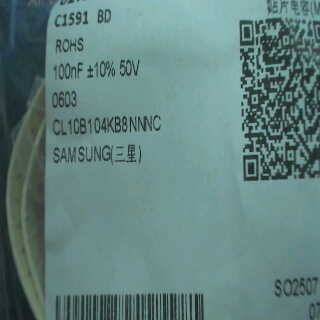100nF: (50, 60, 85, 86)
